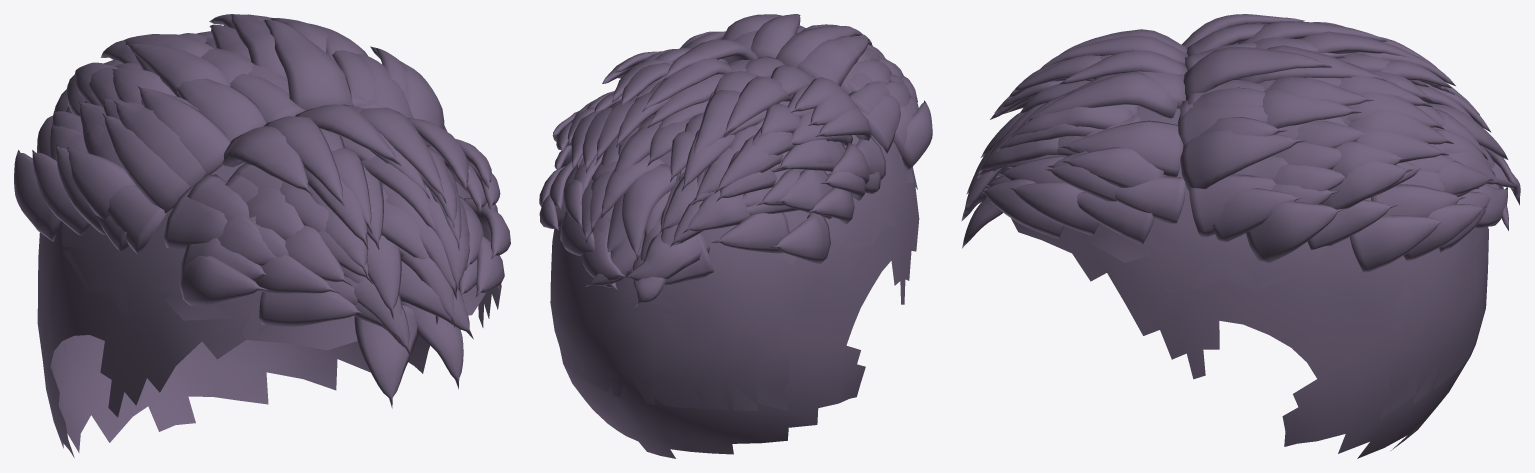
Rendered from hair_anime_male_short_crew_cut.glb.
The picture shows the model from 3 angles, left to right: view 1: azimuth 30°, elevation 25°; view 2: azimuth 150°, elevation 25°; view 3: azimuth 270°, elevation 25°; orthographic projection. The views are drawn at different scales.
Parts seen in each view (by area): view 1: AM_Hair_ShortCrewCut.001; view 2: AM_Hair_ShortCrewCut.001; view 3: AM_Hair_ShortCrewCut.001.
Part boxes in pixels (box(x1,y1,x2,y2)): AM_Hair_ShortCrewCut.001: box(14, 14, 510, 457); AM_Hair_ShortCrewCut.001: box(539, 14, 932, 458); AM_Hair_ShortCrewCut.001: box(961, 14, 1520, 458).
Size of the model in its own units: 0.1692 by 0.1897 by 0.247.
